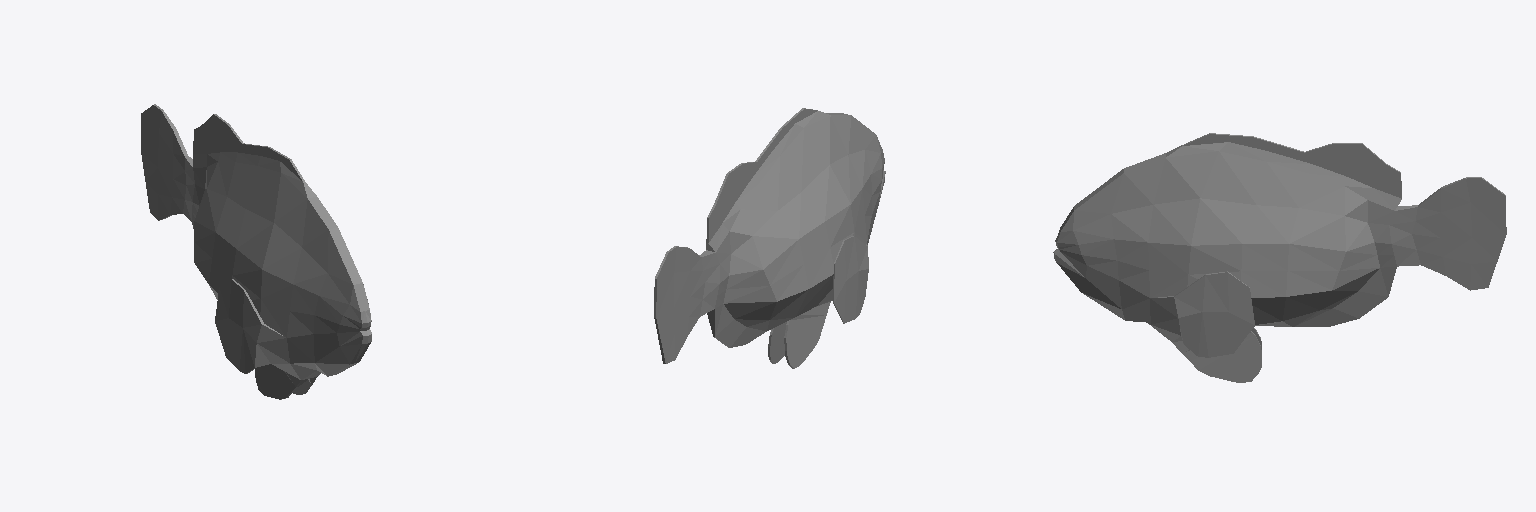
File: TropicalFish11.obj
3 views of the same model, side by side, from view 1: azimuth 30°, elevation 25°; view 2: azimuth 150°, elevation 25°; view 3: azimuth 270°, elevation 25° (orthographic).
Visible parts, largest first — view 1: TropicalFish11; view 2: TropicalFish11; view 3: TropicalFish11.
Boxes of the visible parts, x1,y1,x2,y2 form: TropicalFish11: [141, 104, 371, 399]; TropicalFish11: [654, 108, 885, 368]; TropicalFish11: [1053, 133, 1506, 382].
Size of the model in its own units: 1.85 by 4.03 by 6.77.